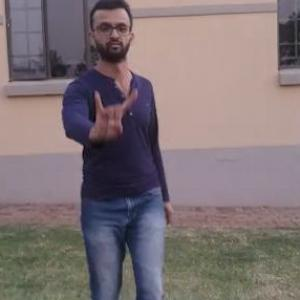takeoff-hand: (81, 80, 139, 149)
